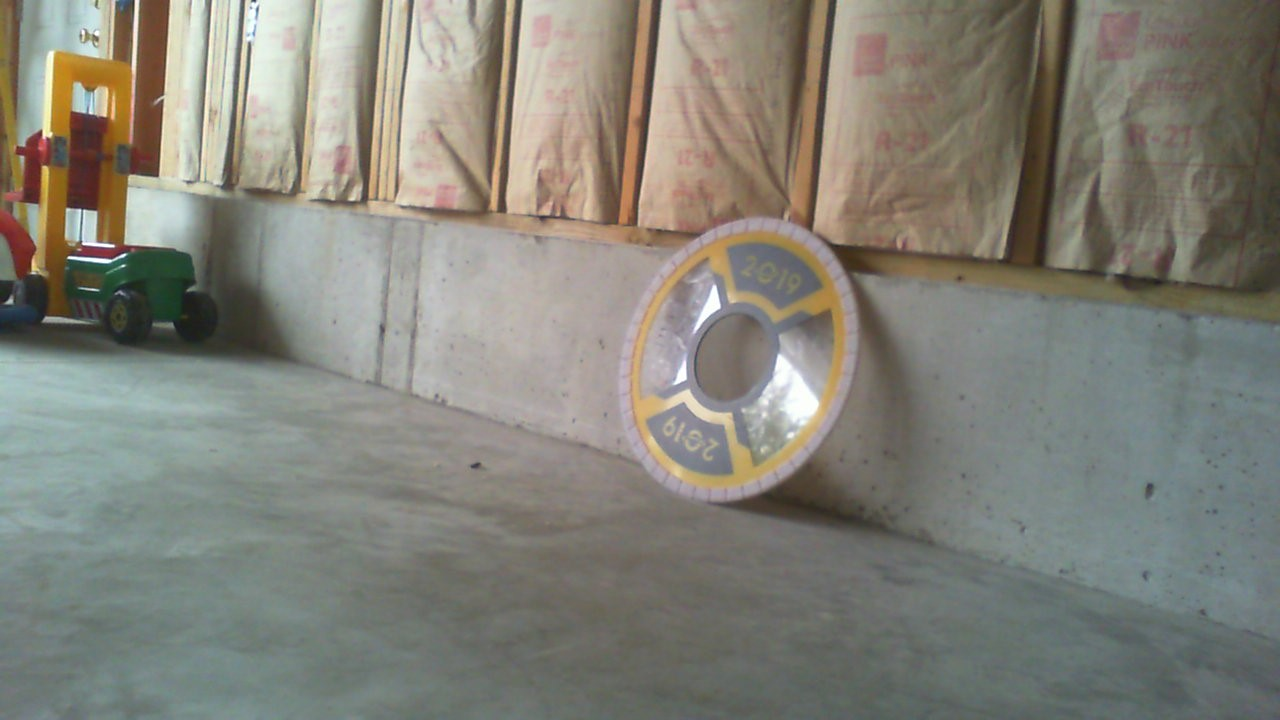Hatch: (617, 218, 859, 502)
